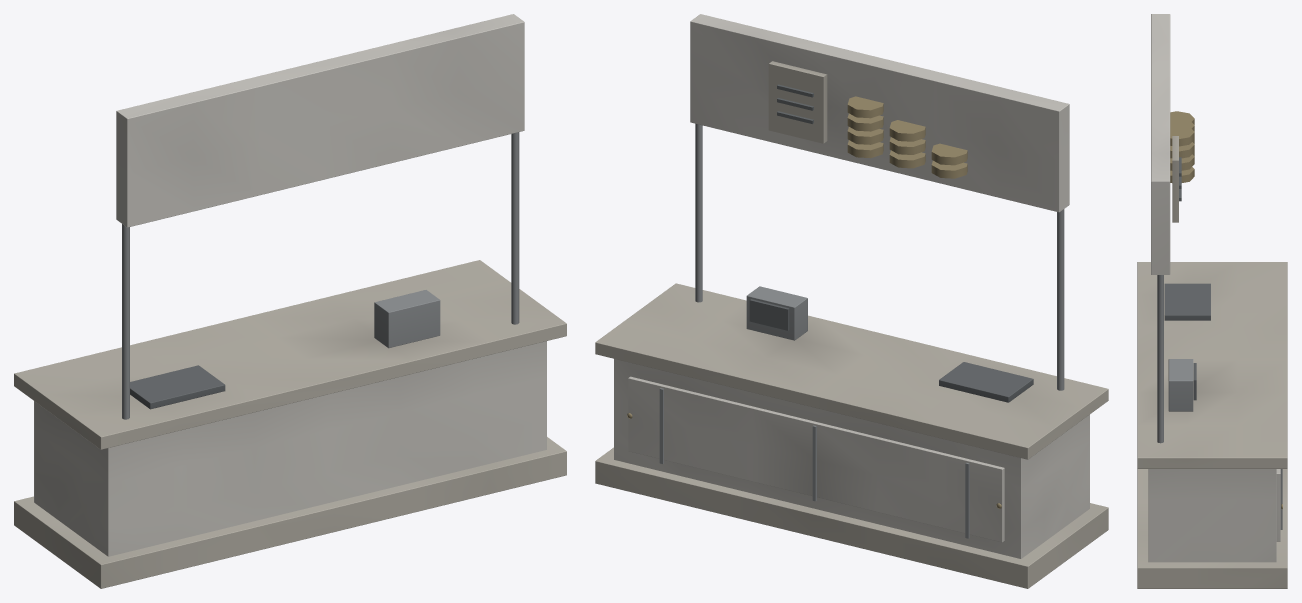
File: desk_tax.glb
3 renders of one model, left to right at view 1: azimuth 30°, elevation 25°; view 2: azimuth 150°, elevation 25°; view 3: azimuth 270°, elevation 25°, orthographic. The views are drawn at different scales.
Bounding box in the file's own units: 3.4 × 3.18 × 1.1.
